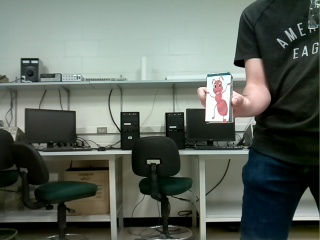Happy: (206, 76, 231, 122)
